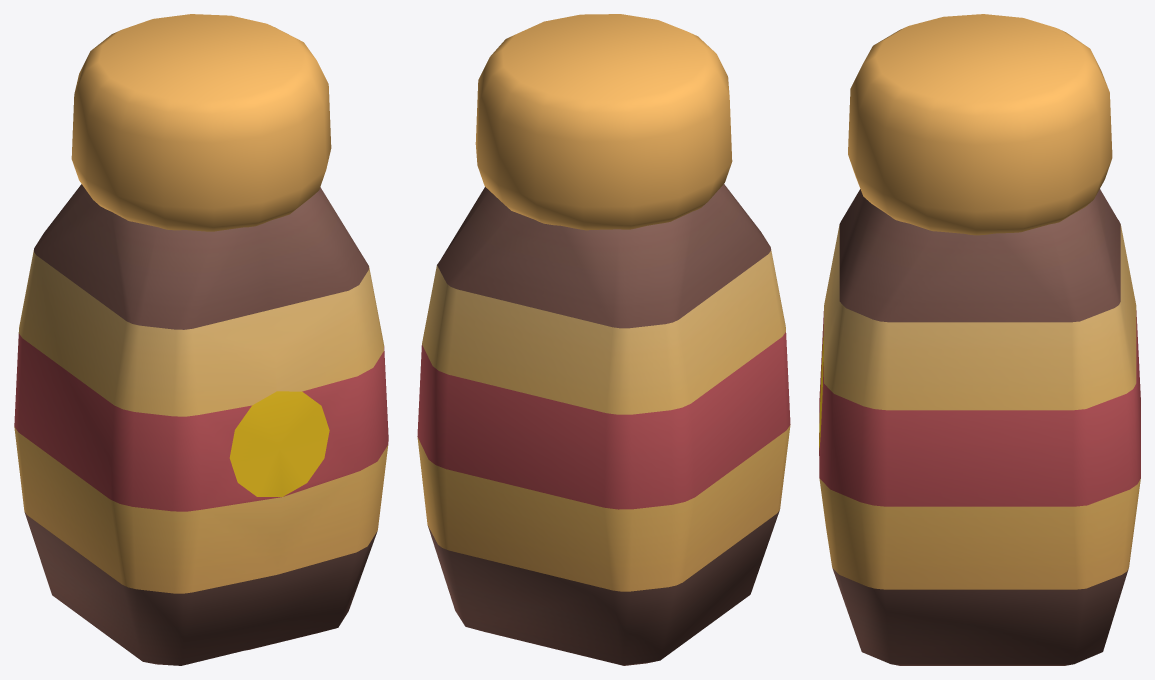
The picture shows the model from 3 angles, left to right: view 1: azimuth 30°, elevation 25°; view 2: azimuth 150°, elevation 25°; view 3: azimuth 270°, elevation 25°; orthographic projection.
Parts seen in each view (by area): view 1: 4-5; view 2: 4-5; view 3: 4-5.
Part boxes in pixels (x1,y1,x2,y2): 4-5: (14,14,388,665); 4-5: (417,14,790,665); 4-5: (819,14,1140,665).
Size of the model in its own units: 8.1 by 15.73 by 8.11.
